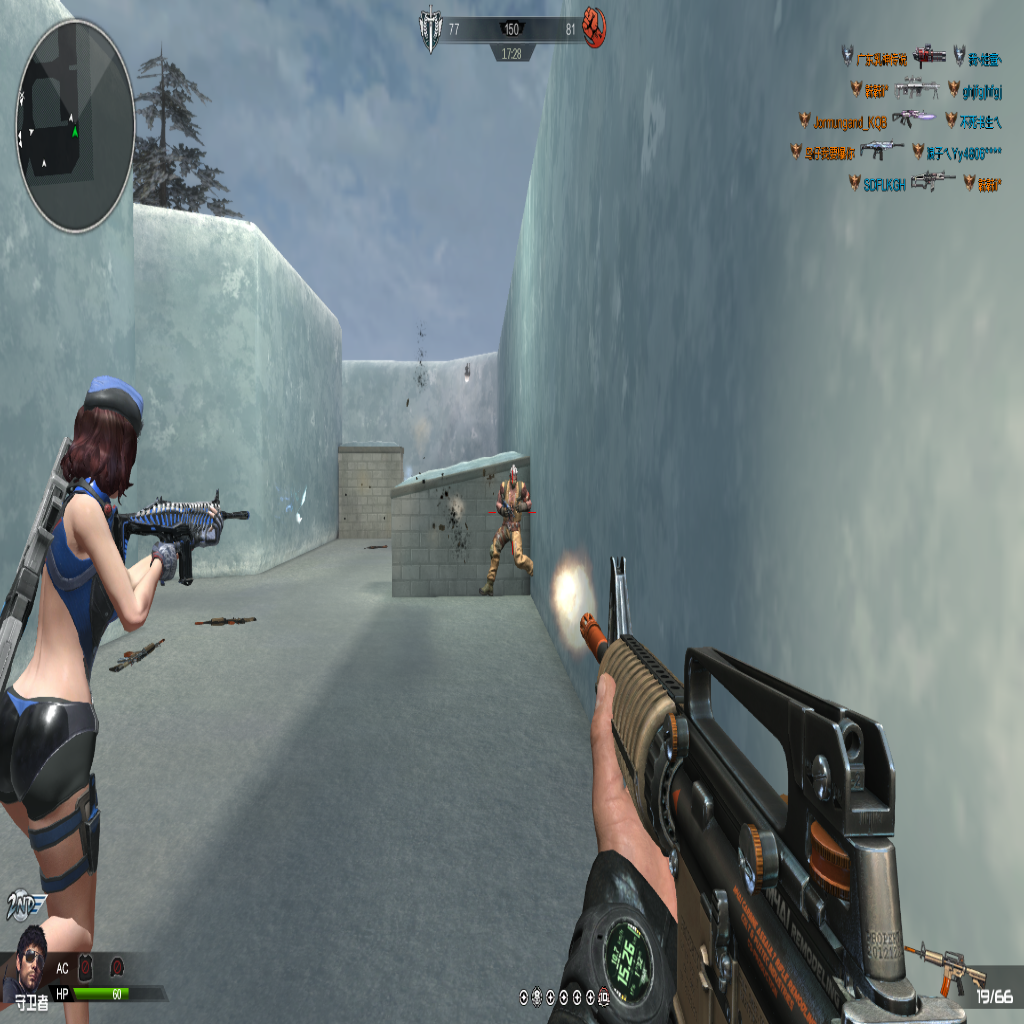ct: (1, 378, 177, 957)
